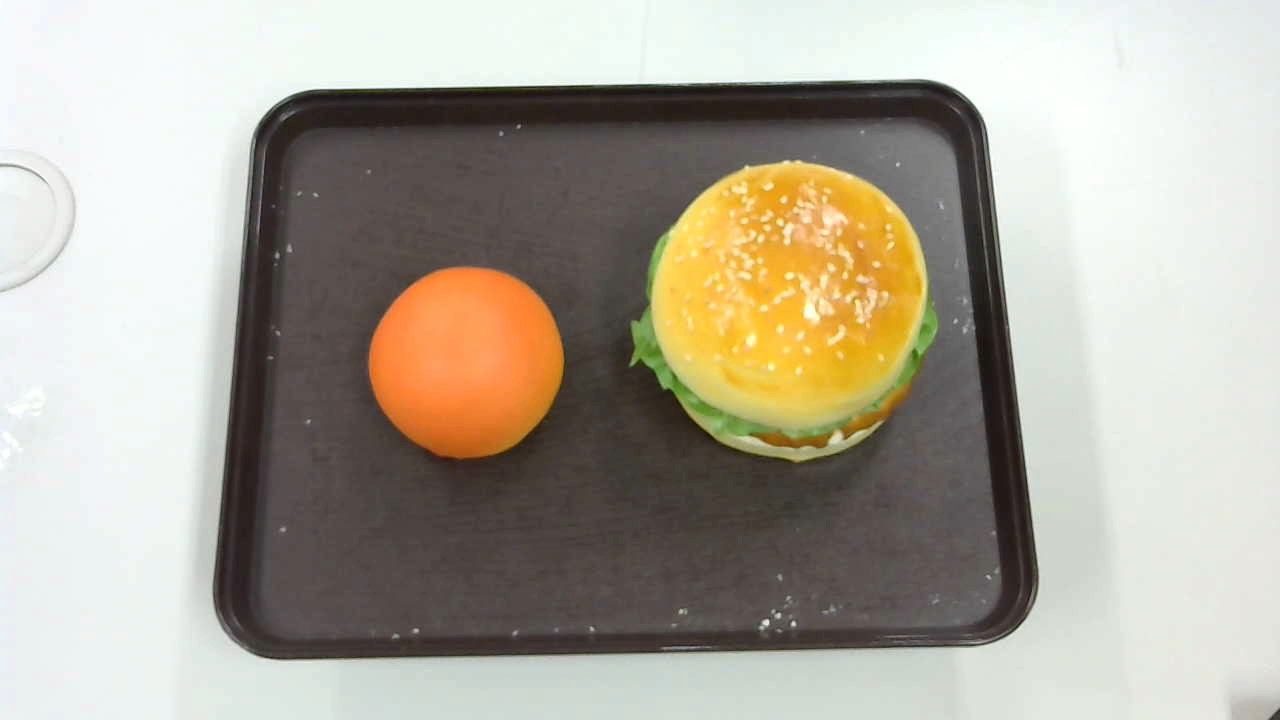bun: (367, 267, 564, 458)
hamburger: (629, 160, 938, 463)
